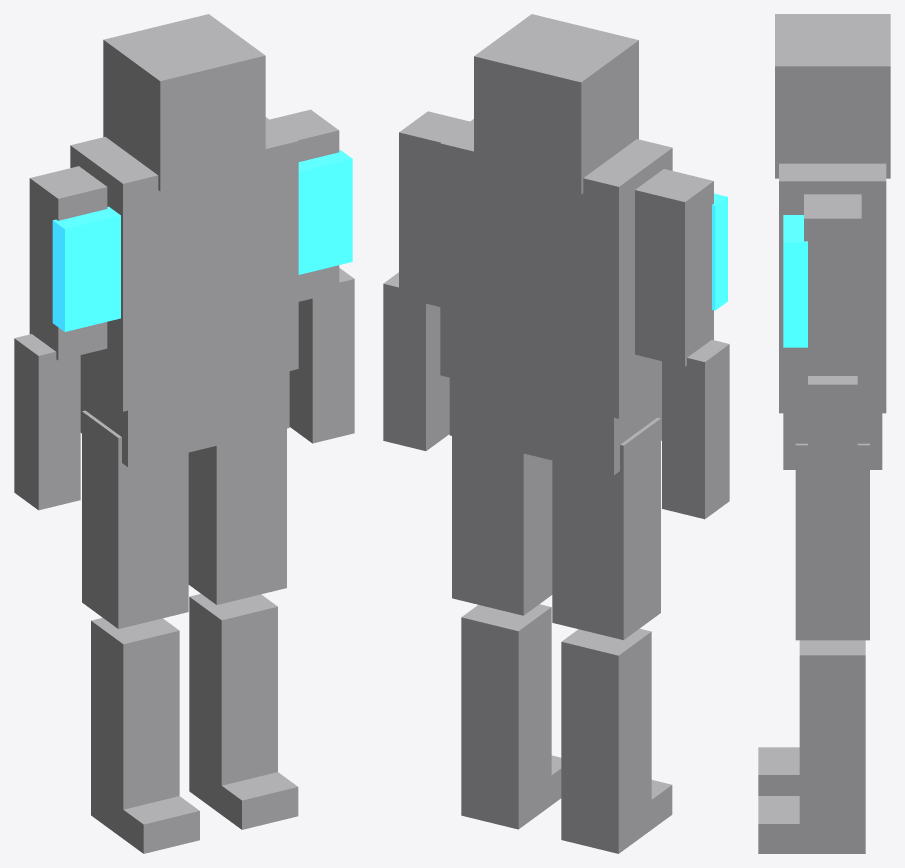
The model's file is biceps.glb.
The picture shows the model from 3 angles, left to right: view 1: azimuth 30°, elevation 25°; view 2: azimuth 150°, elevation 25°; view 3: azimuth 270°, elevation 25°; orthographic projection.
Visible parts, largest first — view 1: Mannequin; view 2: Mannequin; view 3: Mannequin.
Boxes of the visible parts, x1=… form: Mannequin: x1=14, y1=14, x2=354, y2=853; Mannequin: x1=383, y1=14, x2=729, y2=853; Mannequin: x1=758, y1=14, x2=890, y2=853.
Bounding box in the file's own units: 0.9 × 2.07 × 0.32.
